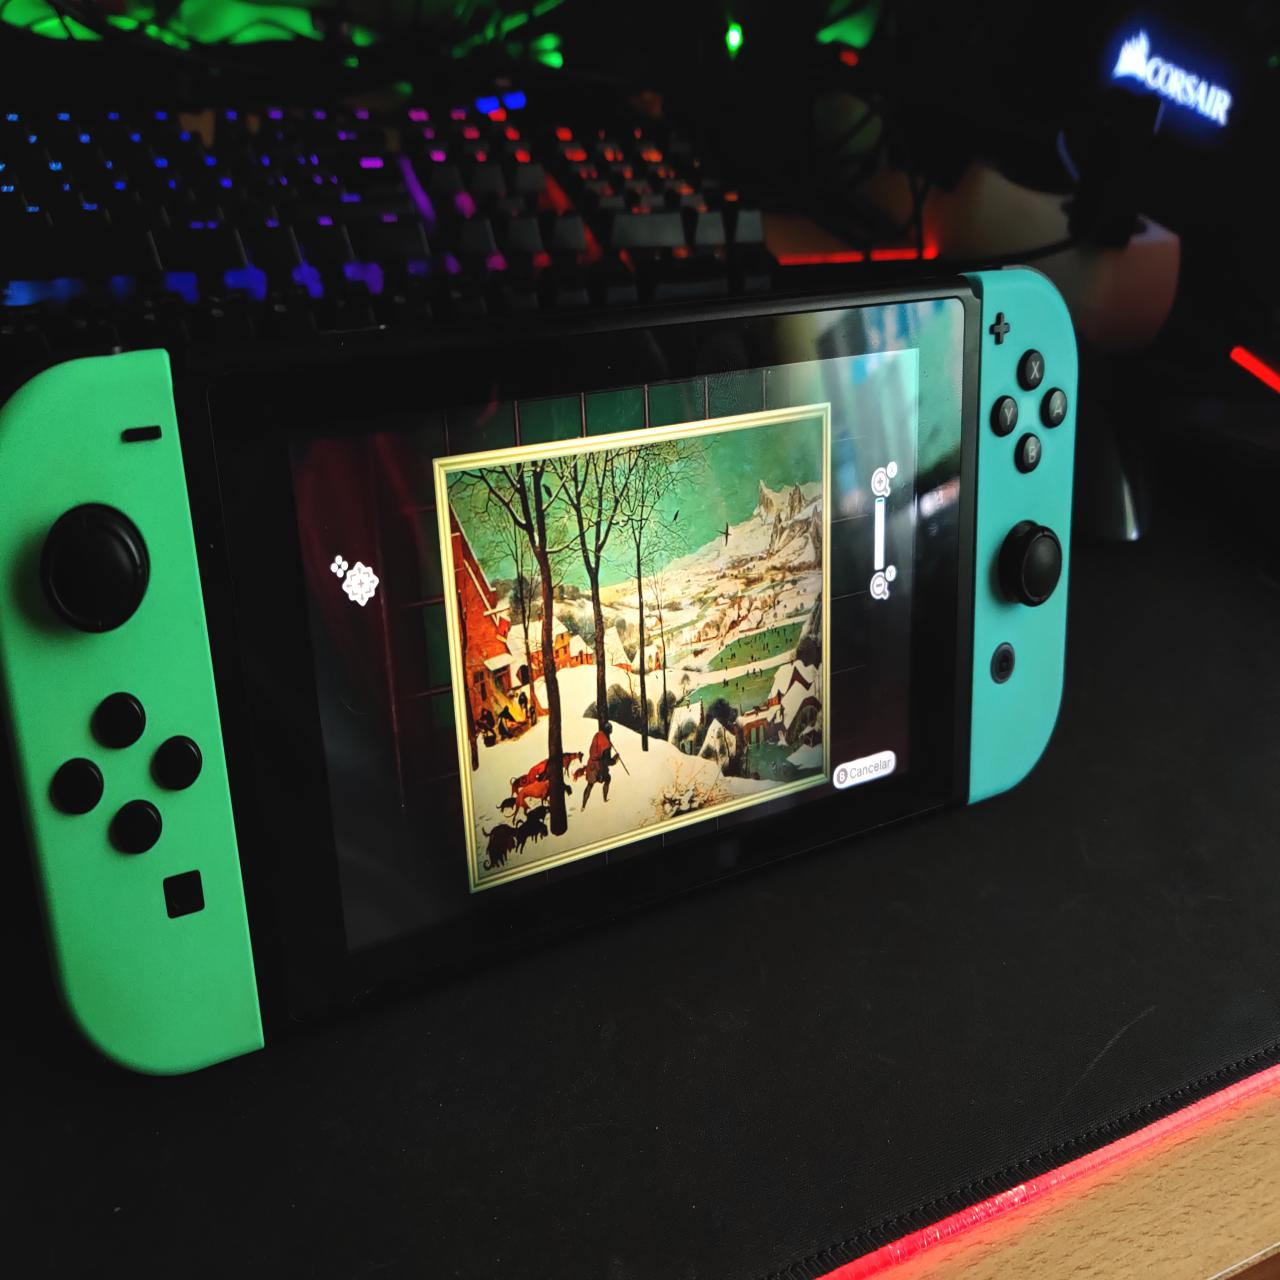HunterSnowFake: (435, 403, 836, 890)
